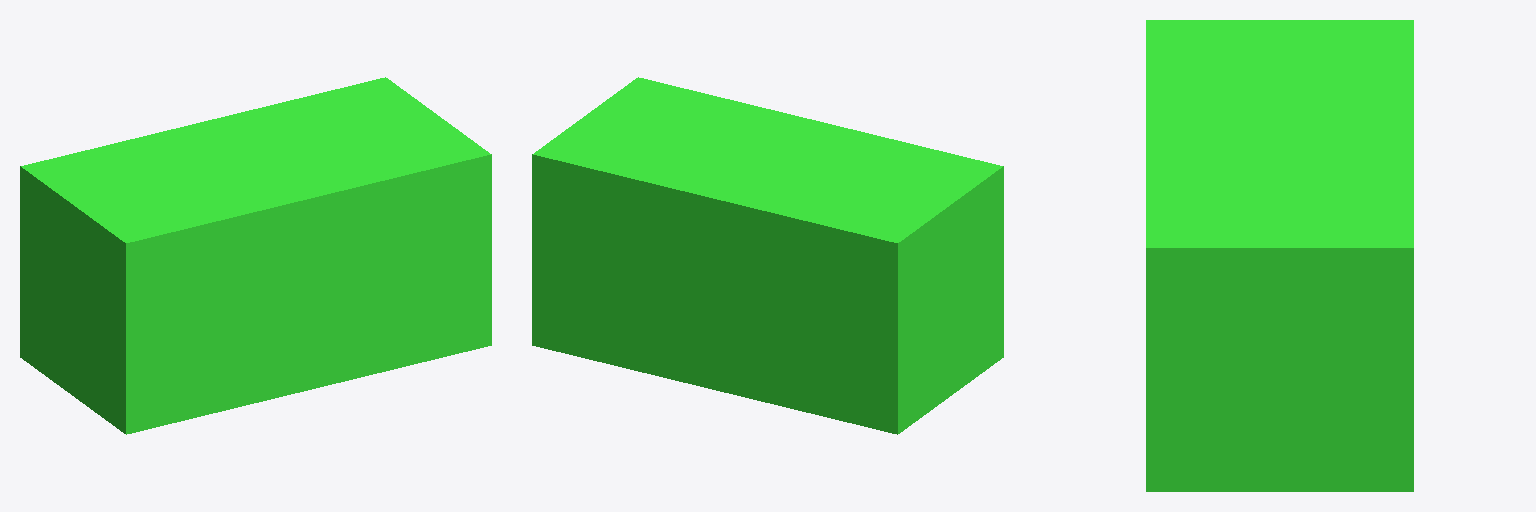
URDF robot description (CubeLifeSize_v2_60_120):
<robot name="CubeLifeSize_v2_60_120">
	<link name="object">
		<visual>
			<origin rpy="0.0 0.0 0.0" xyz="0.0 0.0 -0.6" />
			<geometry>
				<mesh filename="CubeLifeSize_v2_60_120/CubeLifeSize_v2_60_120.obj" scale="0.02 0.02 0.02" />
			</geometry>
			<material name="texture">
				<color rgba="0.3 1.0 0.3 1.0" />
			</material>
		</visual>
		<collision>
			<origin rpy="0.0 0.0 0.0" xyz="0.0 0.0 -0.6" />
			<geometry>
				<mesh filename="CubeLifeSize_v2_60_120/CubeLifeSize_v2_60_120_vhacd.obj" scale="0.02 0.02 0.02" />
			</geometry>
		</collision>
		<inertial>
			<mass value="0.020" />
			<inertia ixx="1.0" ixy="0.0" ixz="0.0" iyy="1.0" iyz="0.0" izz="1.0" />
		</inertial>
	</link>
</robot>

--- Facts derived from the render (not from the file) ---
3 views of the same robot in one strip: view 1: azimuth 30°, elevation 25°; view 2: azimuth 150°, elevation 25°; view 3: azimuth 270°, elevation 25° (orthographic).
Robot: CubeLifeSize_v2_60_120 — 1 links, 0 joints (none); root link object; default pose: all joints at 0.
Links seen in each view (by area): view 1: object; view 2: object; view 3: object.
Boxes of the visible links, x1,y1,x2,y2 form: object: (20, 77, 491, 434); object: (532, 77, 1003, 434); object: (1146, 20, 1413, 491).
Bounding box of the posed robot: 2.4 × 1.2 × 1.2 m (x, y, z).
Meshes: 1 distinct files referenced, 1 mesh visuals loaded (1 OBJ).